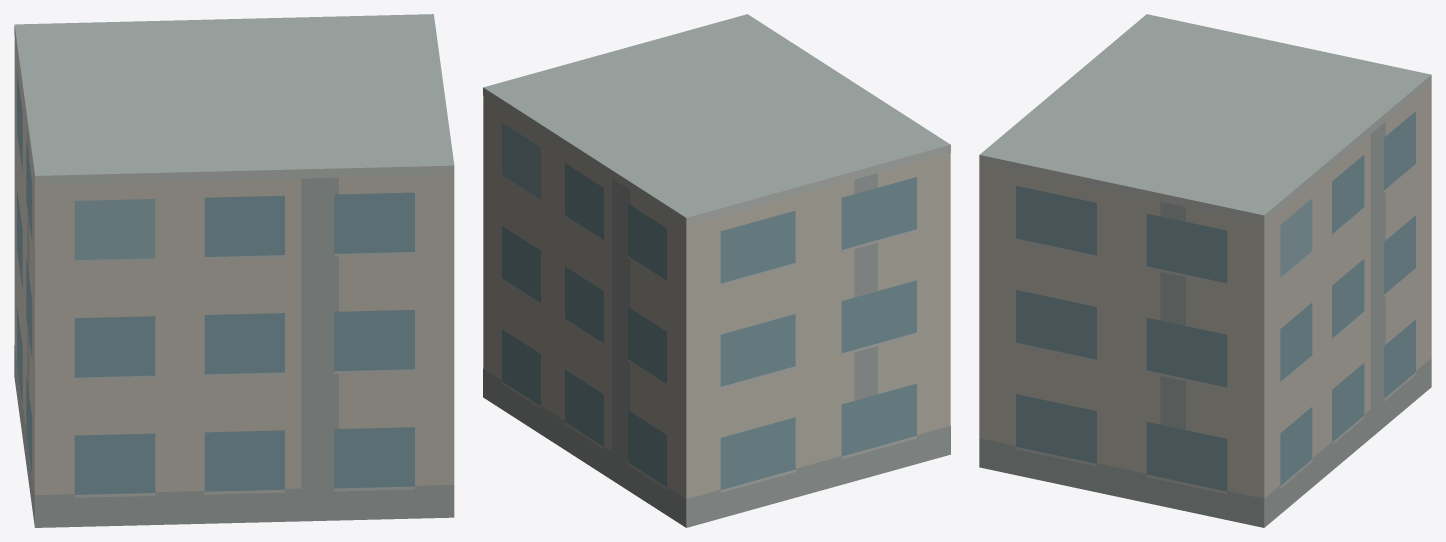
The model's file is residential-1d5c7d56-ce14-4b47-b111-8a29b9e7e482.glb.
3 renders of one model, left to right at view 1: azimuth 30°, elevation 25°; view 2: azimuth 150°, elevation 25°; view 3: azimuth 270°, elevation 25°, orthographic. The views are drawn at different scales.
Parts seen in each view (by area): view 1: residential-1d5c7d56-ce14-4b47-b111-8a29b9e7e482.tmp; view 2: residential-1d5c7d56-ce14-4b47-b111-8a29b9e7e482.tmp; view 3: residential-1d5c7d56-ce14-4b47-b111-8a29b9e7e482.tmp.
Part boxes in pixels (x1=…): residential-1d5c7d56-ce14-4b47-b111-8a29b9e7e482.tmp: x1=14, y1=14, x2=454, y2=527; residential-1d5c7d56-ce14-4b47-b111-8a29b9e7e482.tmp: x1=483, y1=14, x2=950, y2=527; residential-1d5c7d56-ce14-4b47-b111-8a29b9e7e482.tmp: x1=979, y1=14, x2=1431, y2=527.
Size of the model in its own units: 12.66 by 9.15 by 12.01.
